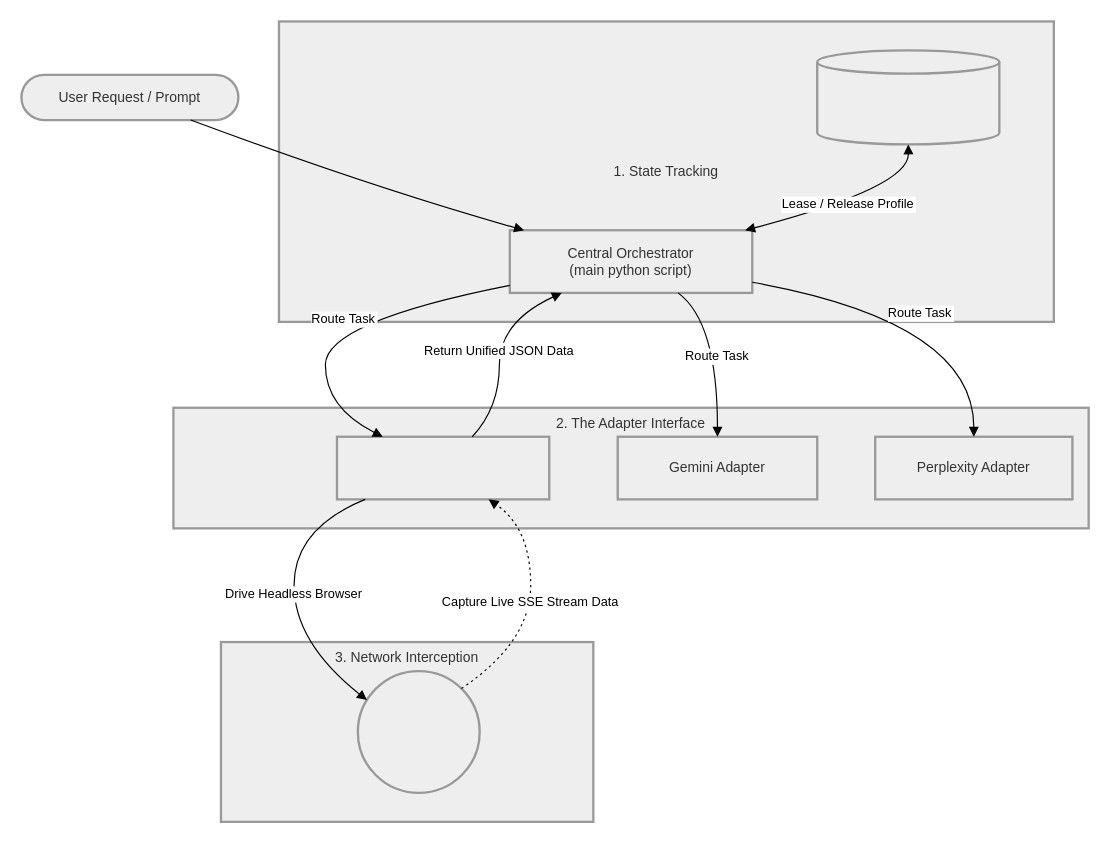
Some shapes in this 1109 by 842 pixel diagram are drawn without their labels. Each missing label, with the centre of its shape:
"ChatGPT Adapter" belongs at point (442, 467).
"chatgpt.com" belongs at point (418, 731).
"Profile & Proxy Pool" belongs at point (907, 97).
